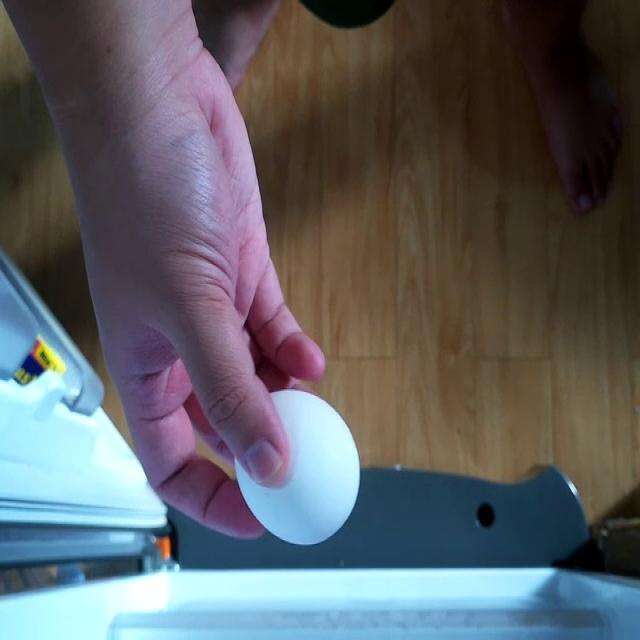egg: (224, 383, 360, 544)
